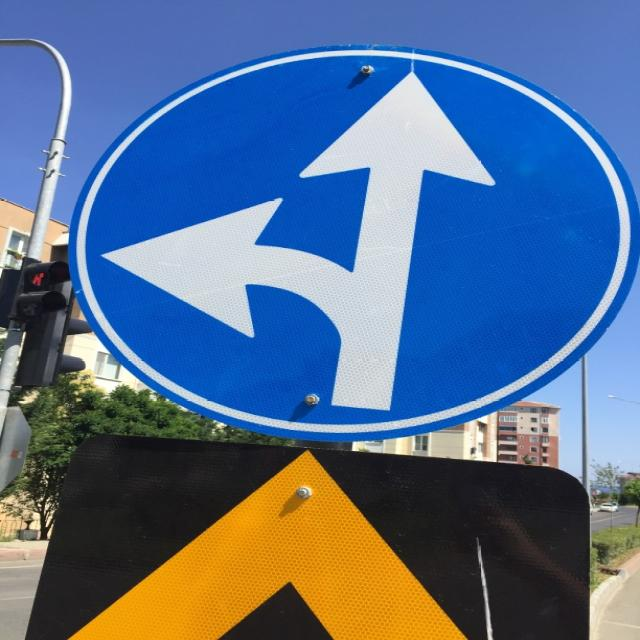ilerisol: (70, 44, 640, 441)
